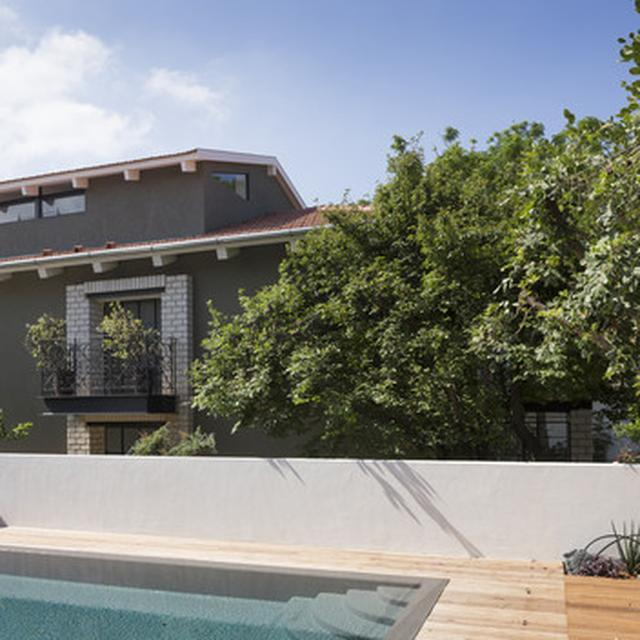building: (6, 146, 598, 483)
